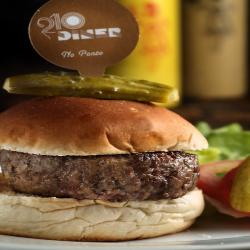burger: (2, 95, 208, 245)
salad: (187, 119, 250, 165)
